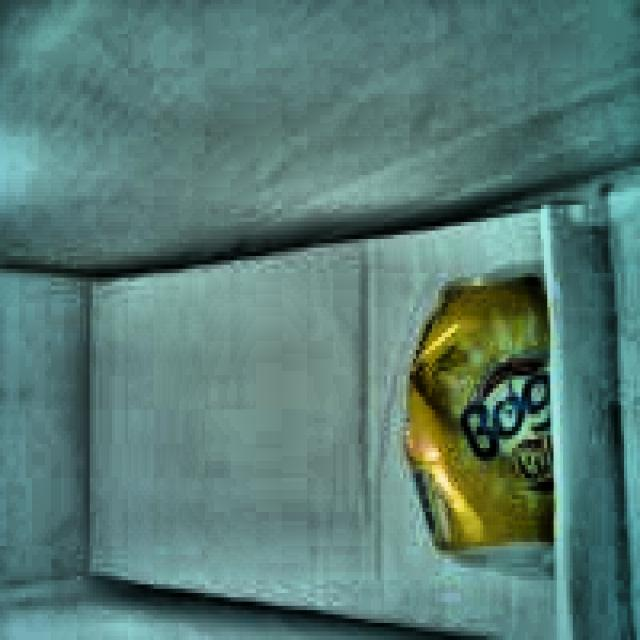Cans: (401, 259, 556, 575)
